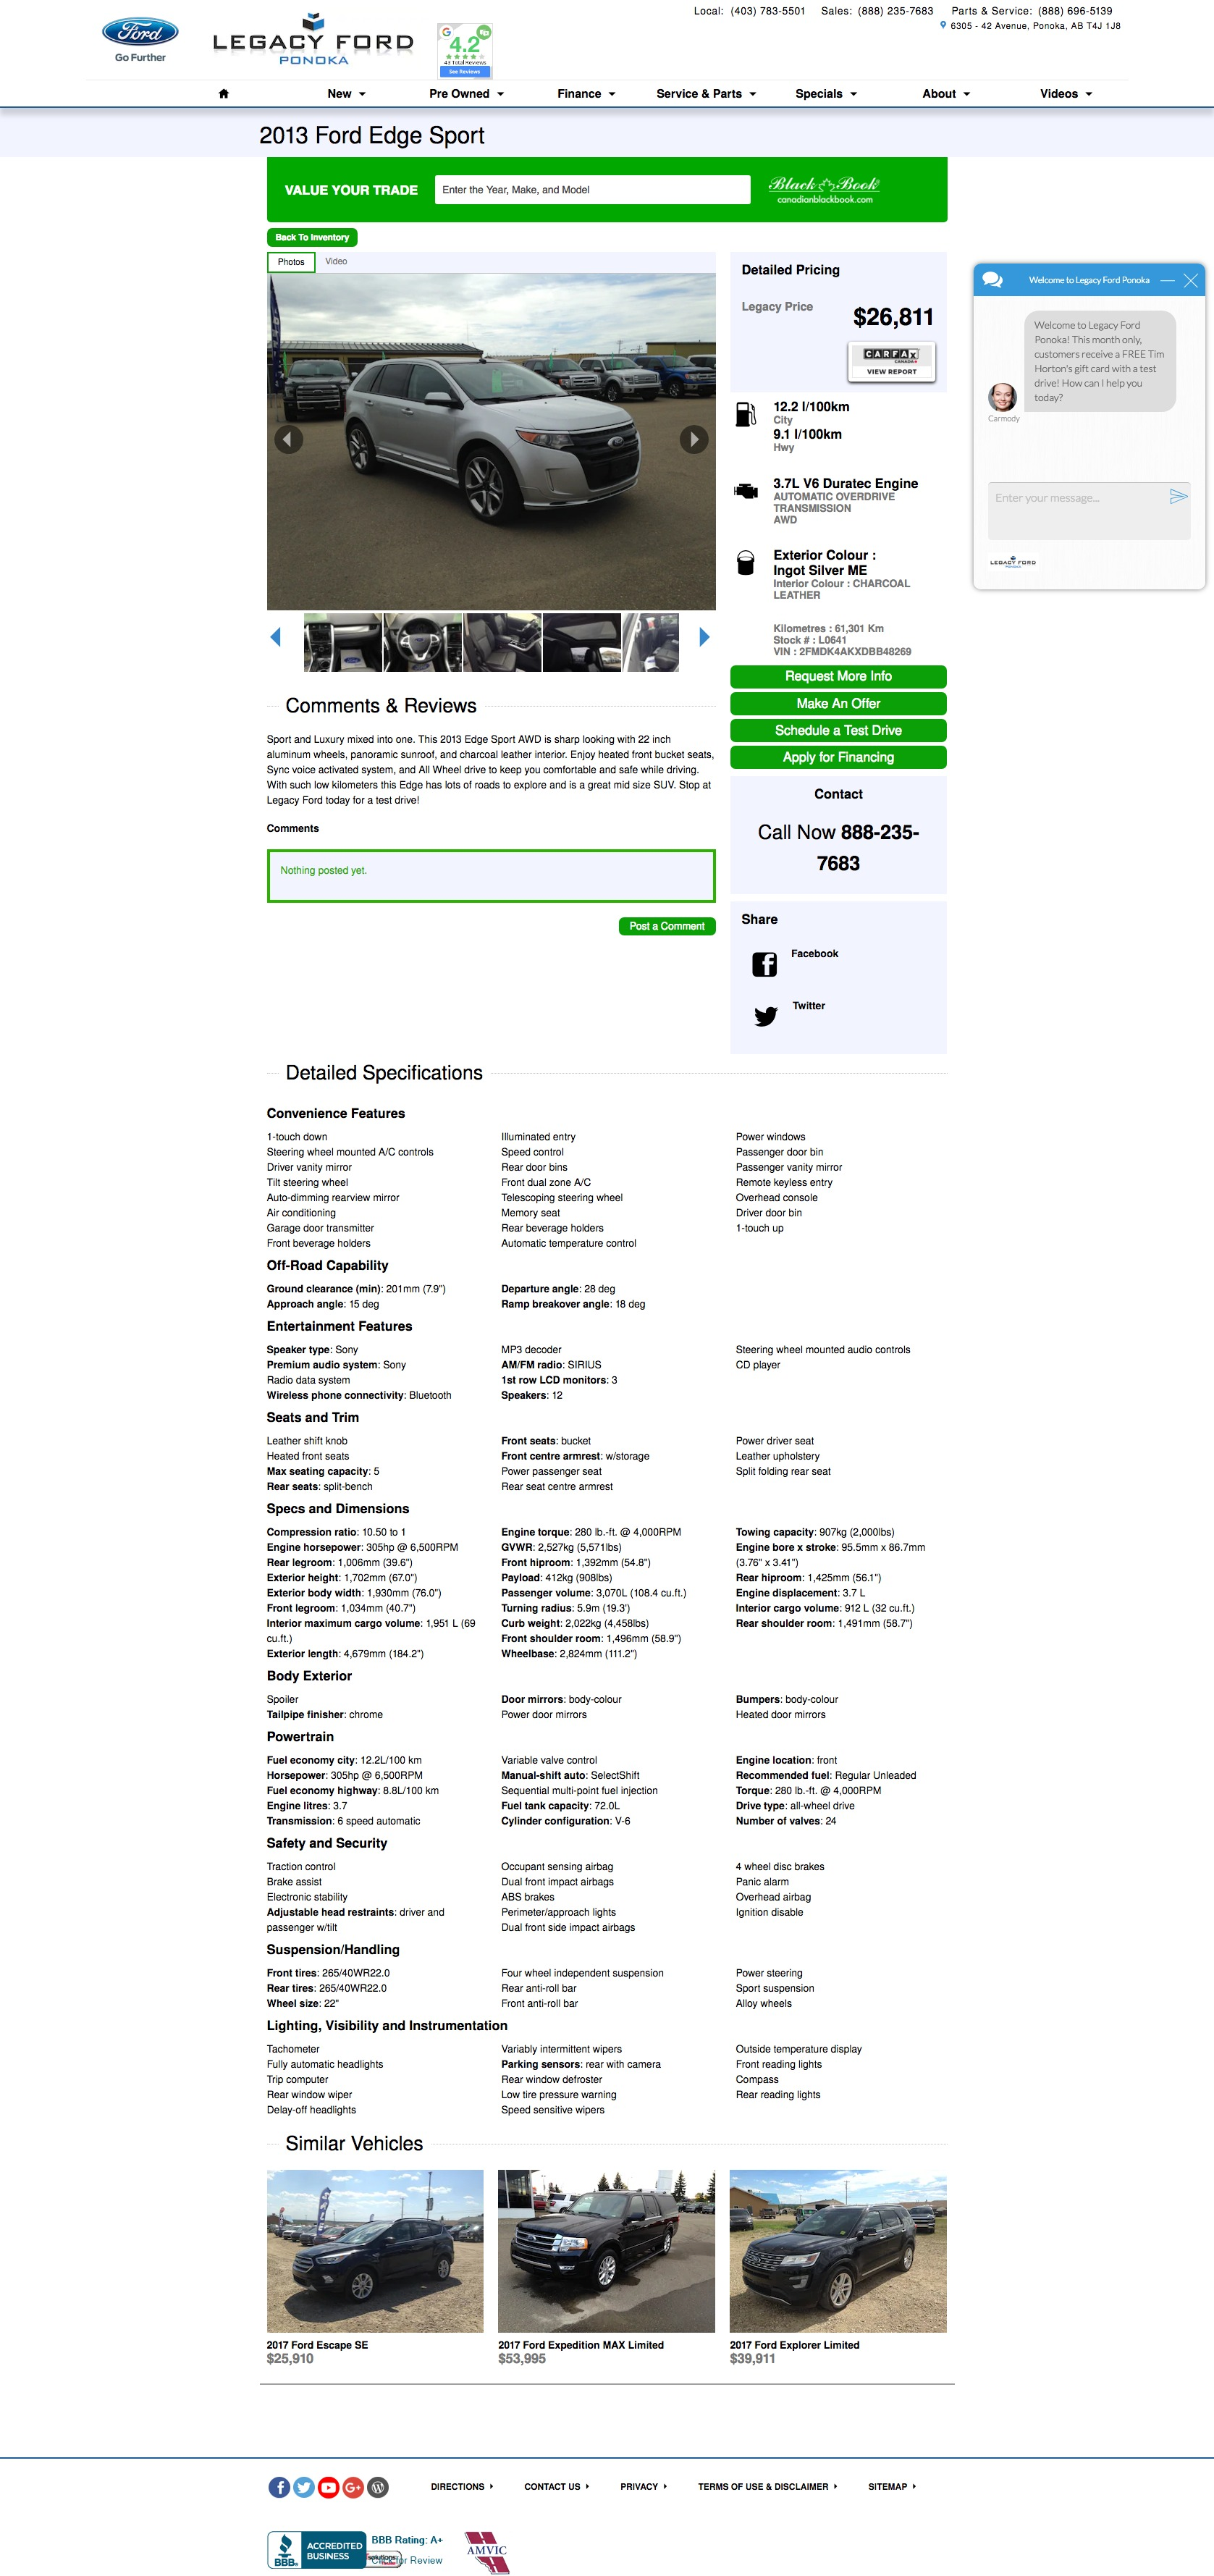car: (698, 628, 711, 647)
